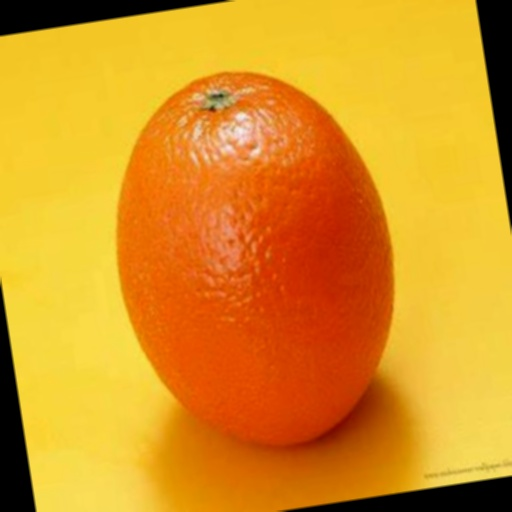fruit: (39, 151, 241, 512)
